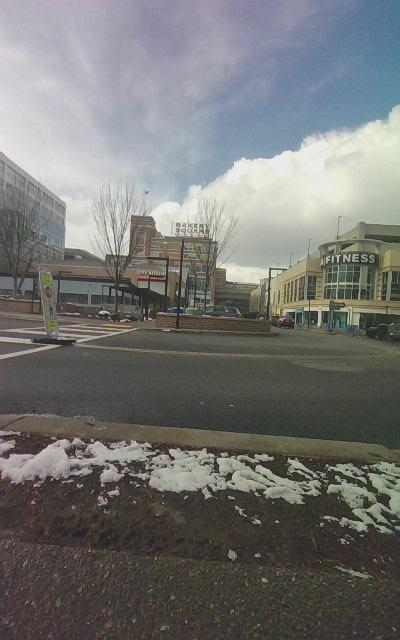curb: (0, 416, 399, 639)
road: (0, 314, 399, 450)
